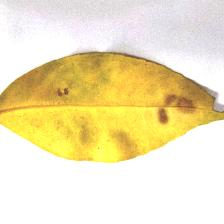black spot: (48, 76, 198, 130)
